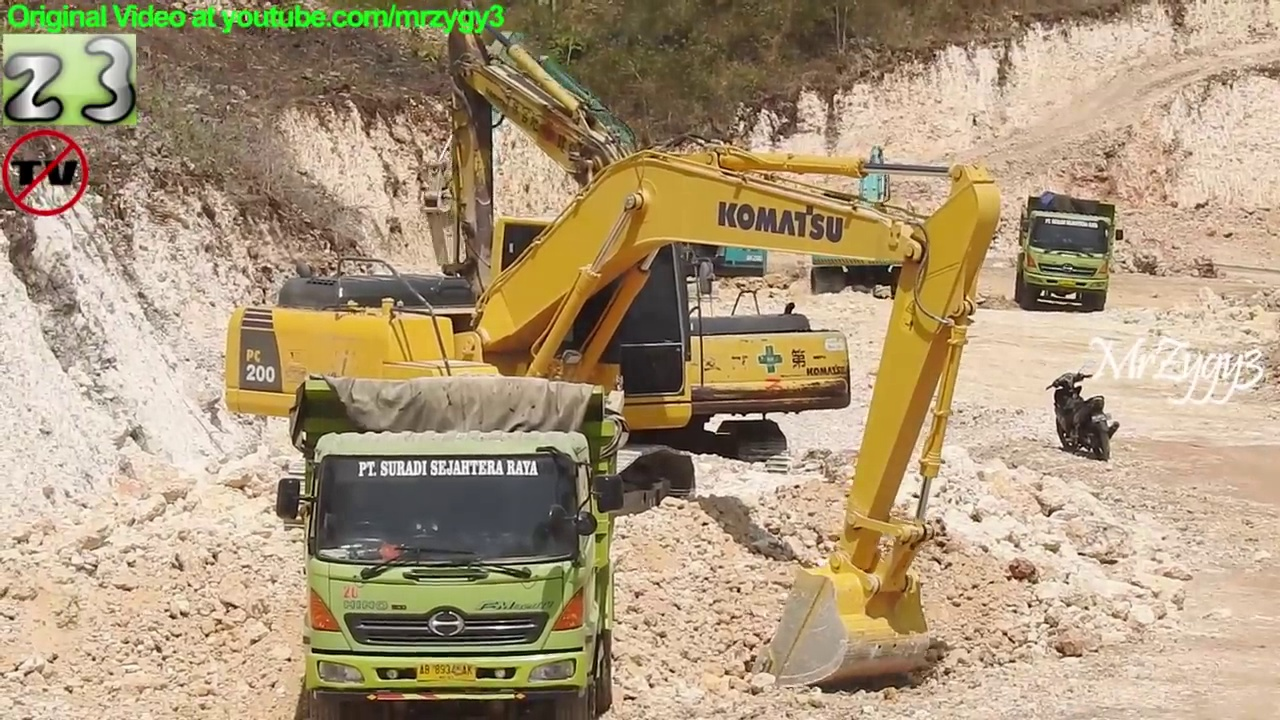excavator: (213, 127, 1010, 698), (426, 7, 864, 488), (410, 21, 778, 319), (803, 138, 933, 302)
truck: (271, 369, 634, 720), (1007, 185, 1127, 317)
